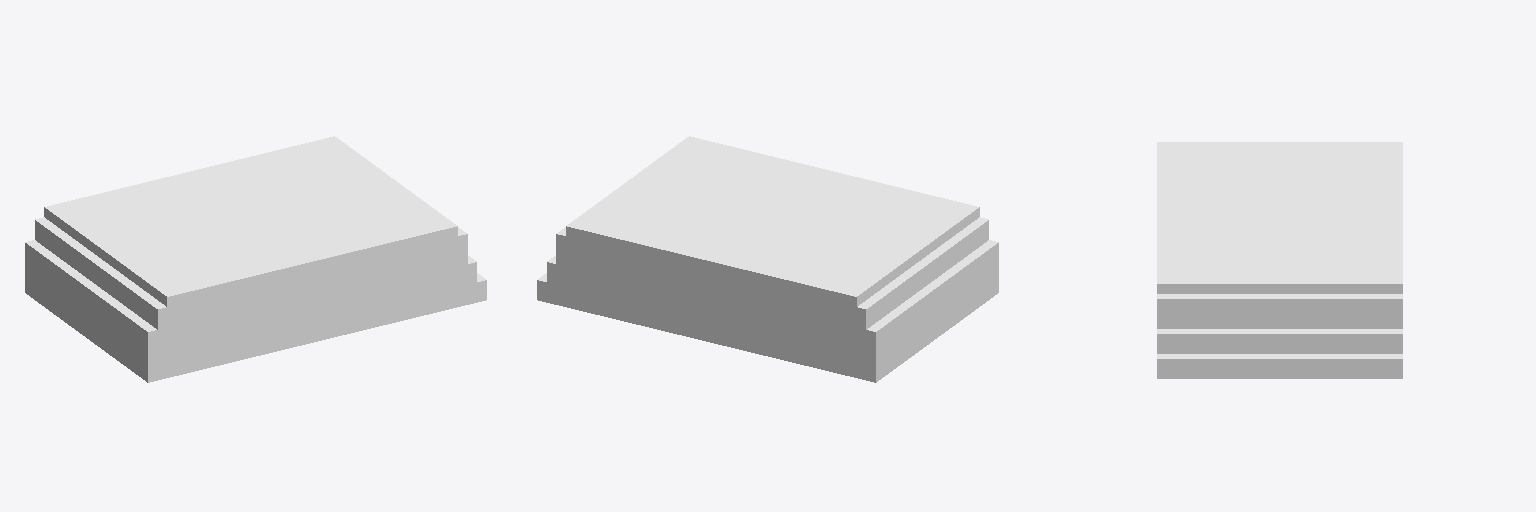
The model's file is carro-0.obj.
3 views of the same model, side by side, from view 1: azimuth 30°, elevation 25°; view 2: azimuth 150°, elevation 25°; view 3: azimuth 270°, elevation 25° (orthographic).
Visible parts, largest first — view 1: object 1; view 2: object 1; view 3: object 1.
Boxes of the visible parts, x1=… form: object 1: x1=25, y1=136, x2=486, y2=382; object 1: x1=537, y1=136, x2=998, y2=382; object 1: x1=1157, y1=142, x2=1402, y2=378.
Size of the model in its own units: 3.5 by 0.8 by 2.2.